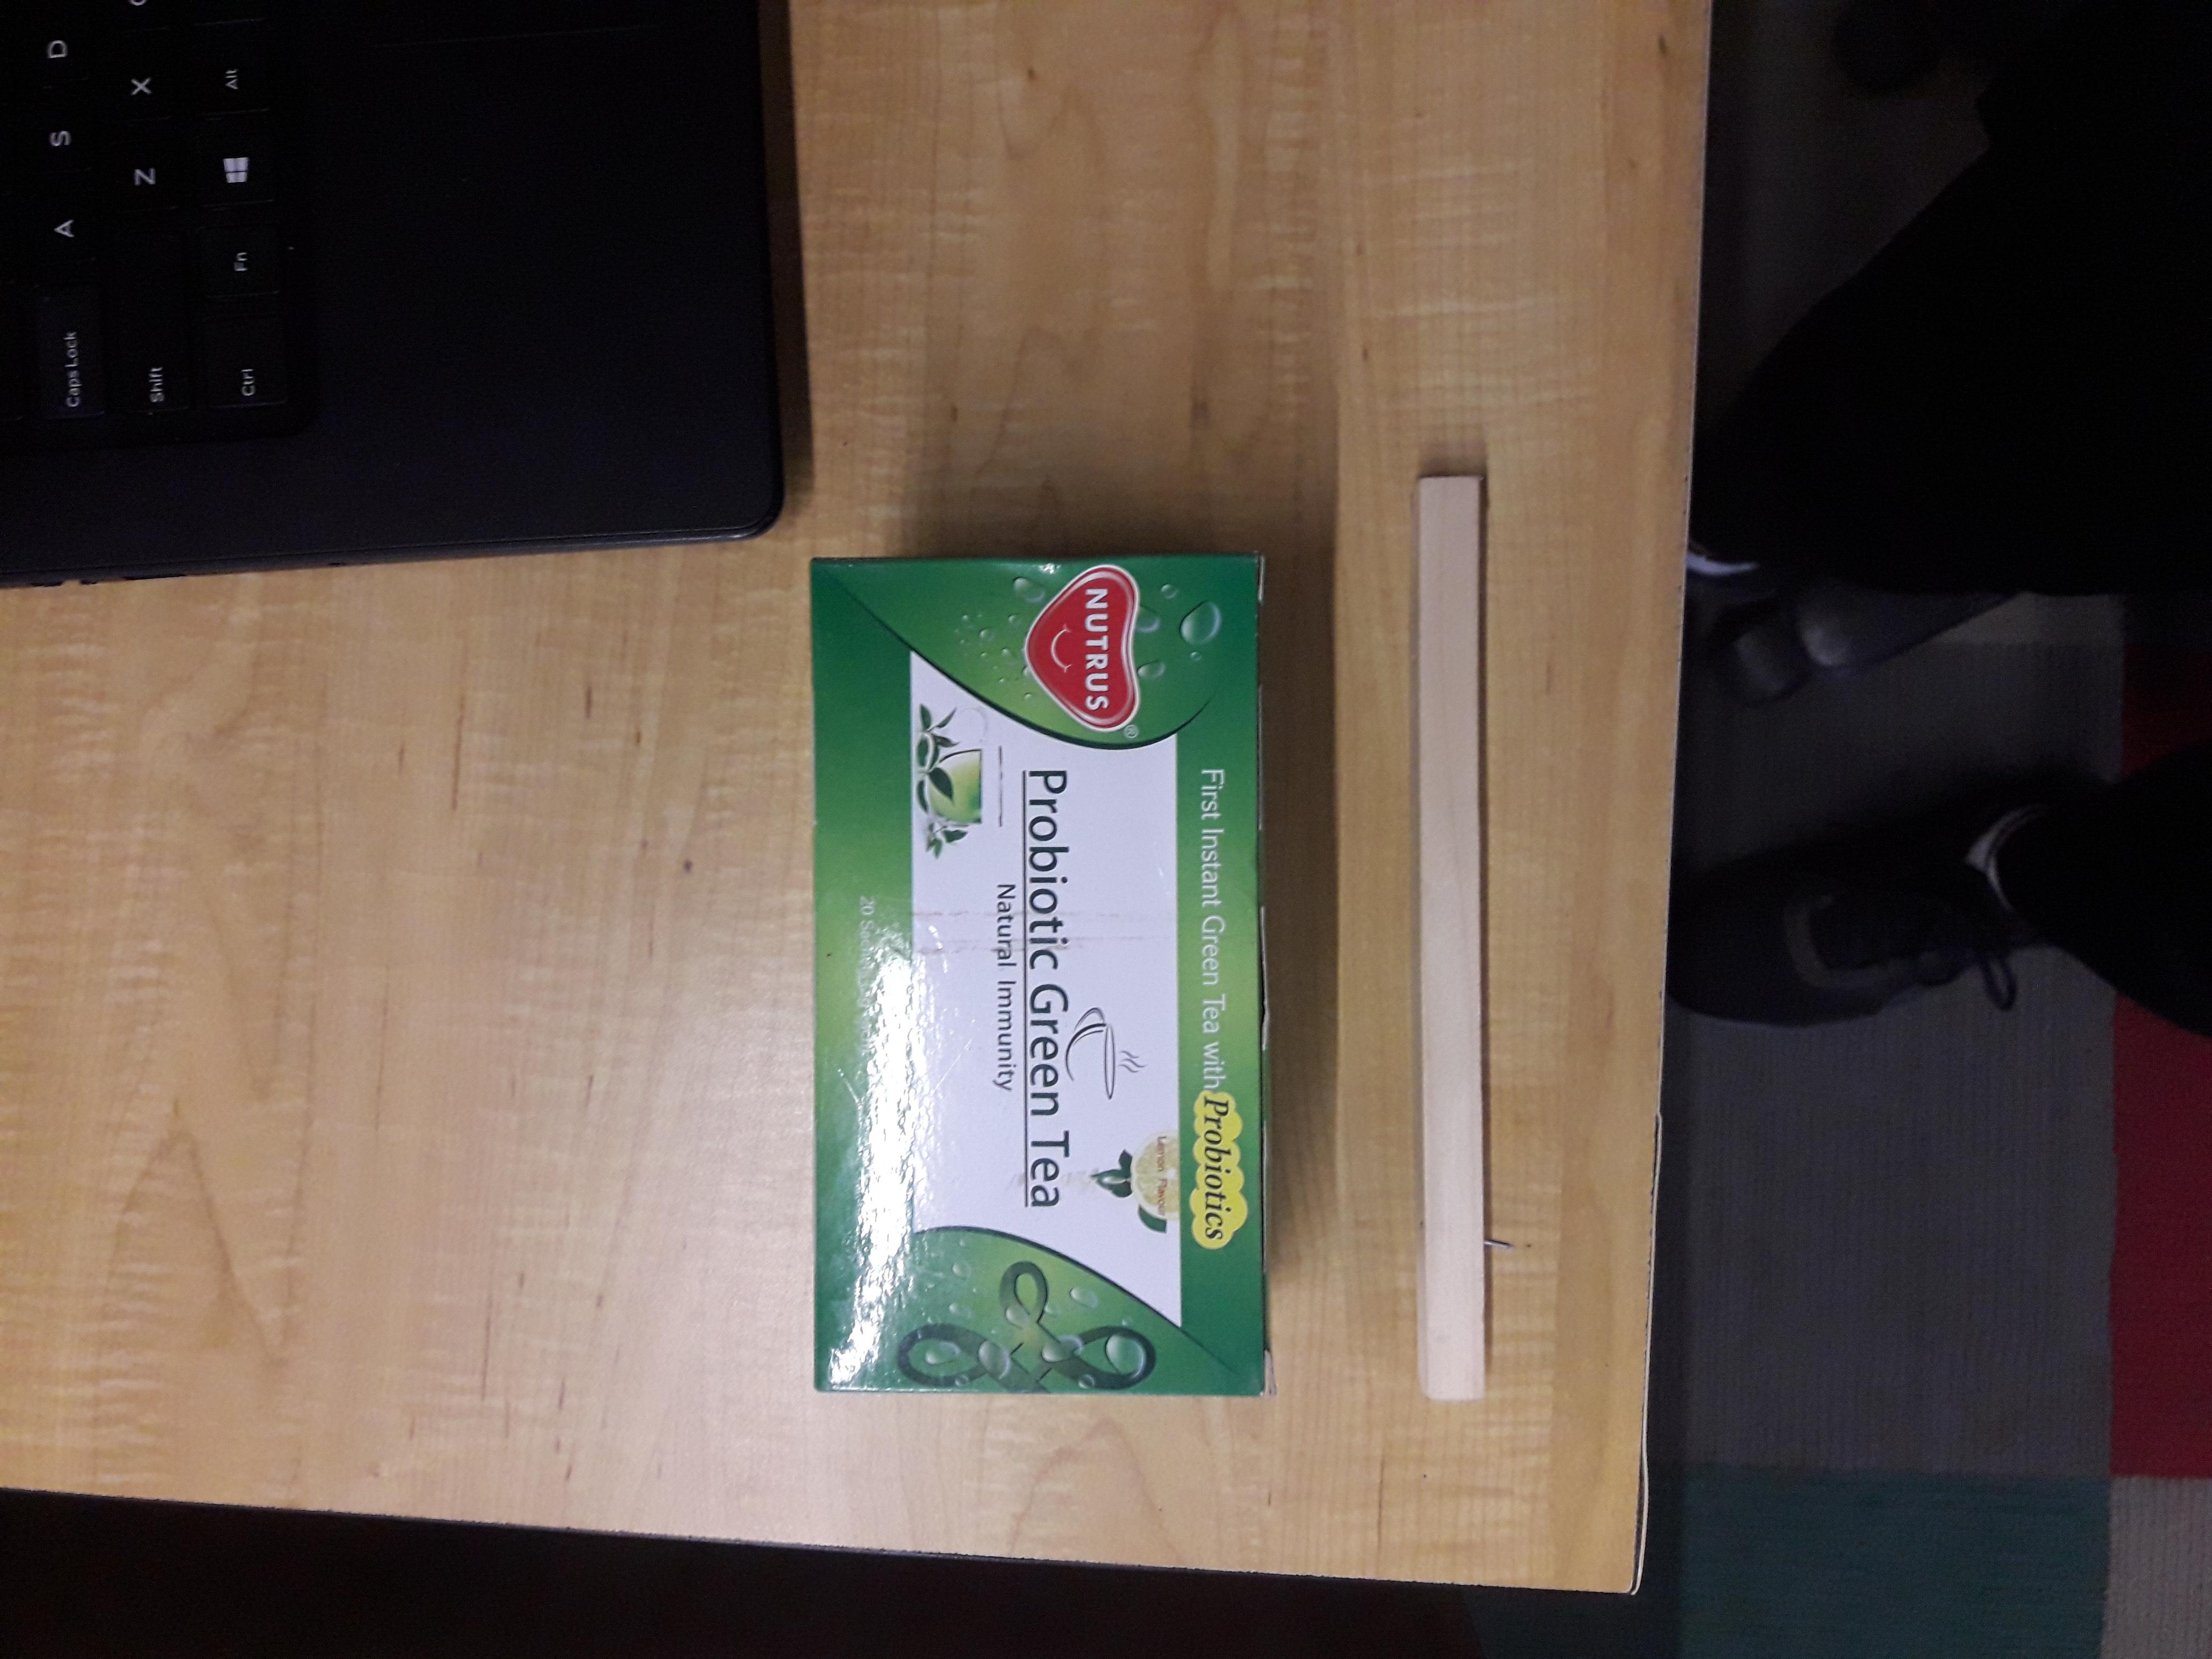object: (808, 549, 1268, 1394)
reference: (1420, 476, 1486, 1396)
